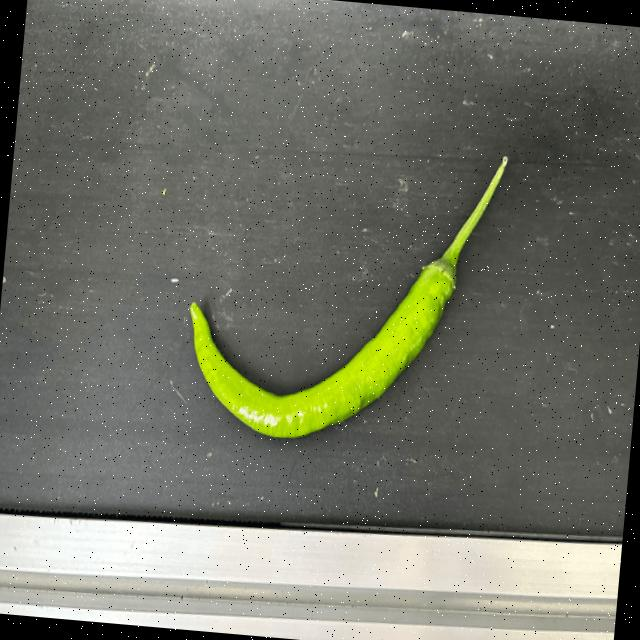chili: (187, 255, 461, 439)
